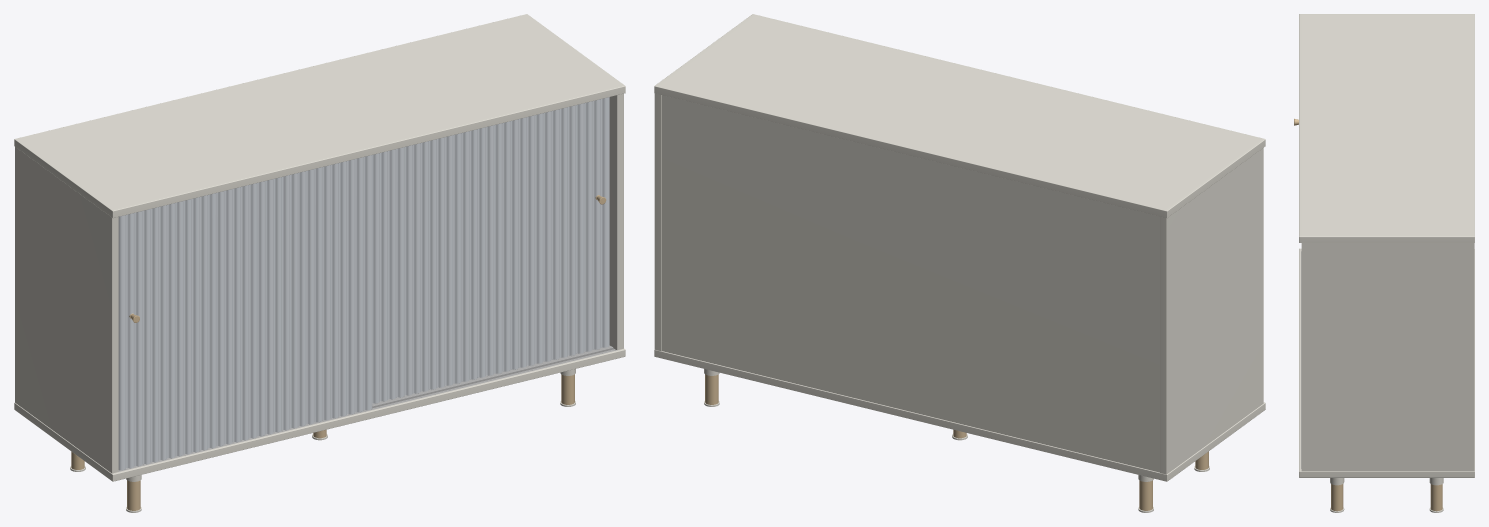
File: doors.glb
The picture shows the model from 3 angles, left to right: view 1: azimuth 30°, elevation 25°; view 2: azimuth 150°, elevation 25°; view 3: azimuth 270°, elevation 25°; orthographic projection. The views are drawn at different scales.
Parts seen in each view (by area): view 1: 8962436; view 2: 8962436; view 3: 8962436.
Part boxes in pixels (left/top/right/bottom): 8962436: left=14, top=14, right=625, bottom=512; 8962436: left=654, top=14, right=1265, bottom=512; 8962436: left=1294, top=14, right=1474, bottom=512.
Size of the model in its own units: 1.2 by 0.725 by 0.4112.
1 material, 1 textured.
